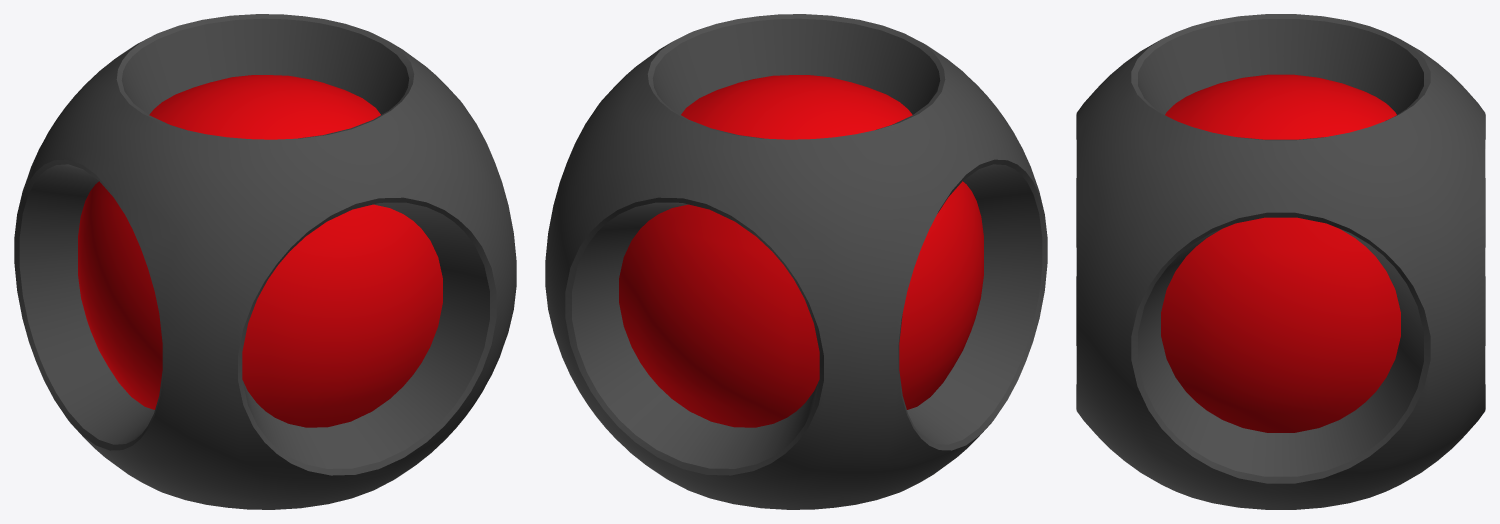
The model's file is DrillRayBomb.fbx.
3 renders of one model, left to right at view 1: azimuth 30°, elevation 25°; view 2: azimuth 150°, elevation 25°; view 3: azimuth 270°, elevation 25°, orthographic.
Visible parts, largest first — view 1: Drill Bomb; view 2: Drill Bomb; view 3: Drill Bomb.
Part boxes in pixels (x1,y1,x2,y2): Drill Bomb: (14,14,516,509); Drill Bomb: (545,14,1047,509); Drill Bomb: (1076,14,1485,509).
Size of the model in its own units: 207 by 207 by 207.
